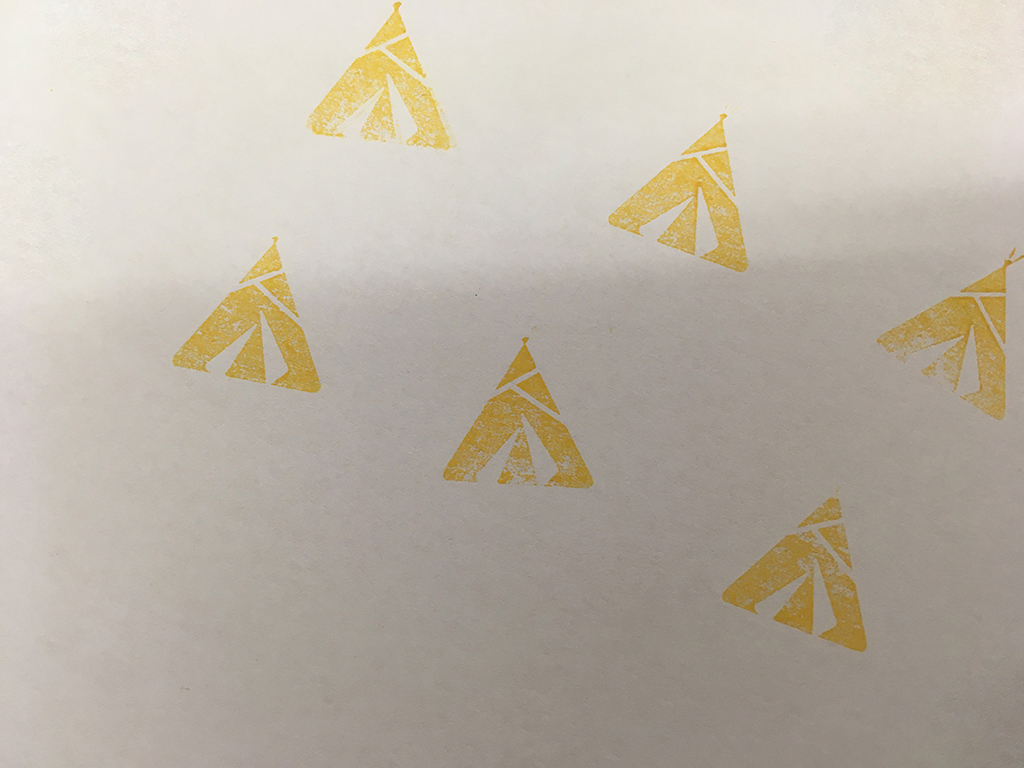tent: (700, 478, 873, 662), (160, 229, 330, 399), (868, 242, 1024, 427), (597, 104, 756, 277), (436, 331, 601, 492), (290, 1, 460, 155)
